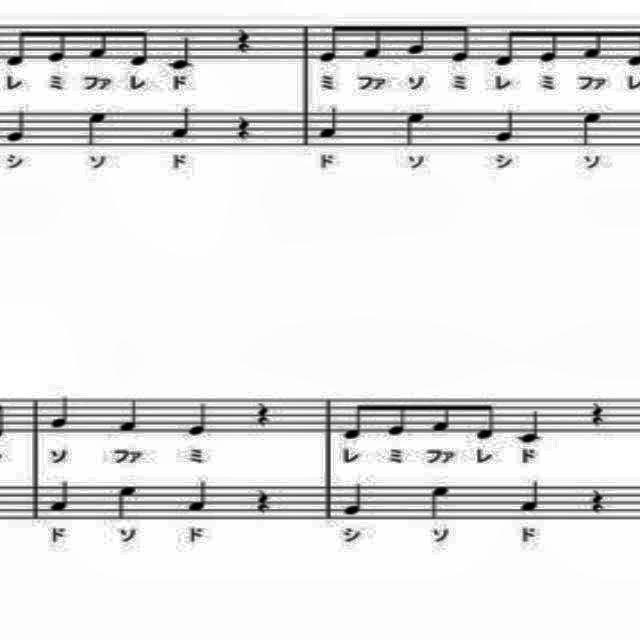Eighth-note: (340, 394, 372, 446), (473, 394, 503, 444), (494, 25, 524, 71), (314, 21, 342, 69), (357, 21, 387, 65), (382, 395, 412, 439), (428, 394, 456, 438), (41, 23, 70, 65), (5, 26, 31, 70), (446, 24, 474, 64), (536, 26, 564, 66), (579, 27, 611, 62), (128, 25, 152, 69), (405, 19, 431, 59), (86, 26, 110, 62)
Quarter-note: (78, 107, 114, 149), (185, 398, 215, 442), (113, 477, 141, 523), (183, 477, 214, 518), (116, 392, 144, 436), (340, 478, 368, 522), (516, 408, 546, 448), (46, 476, 76, 516), (167, 34, 196, 74), (6, 106, 34, 146), (401, 109, 429, 148), (167, 104, 196, 140), (580, 108, 606, 148), (426, 484, 452, 524), (316, 108, 344, 144), (520, 479, 546, 516), (50, 394, 74, 434), (494, 105, 518, 144)
Quarter-rest: (250, 394, 278, 430), (232, 26, 260, 54), (252, 486, 276, 518), (232, 109, 254, 143), (585, 486, 609, 516), (587, 400, 609, 430)
